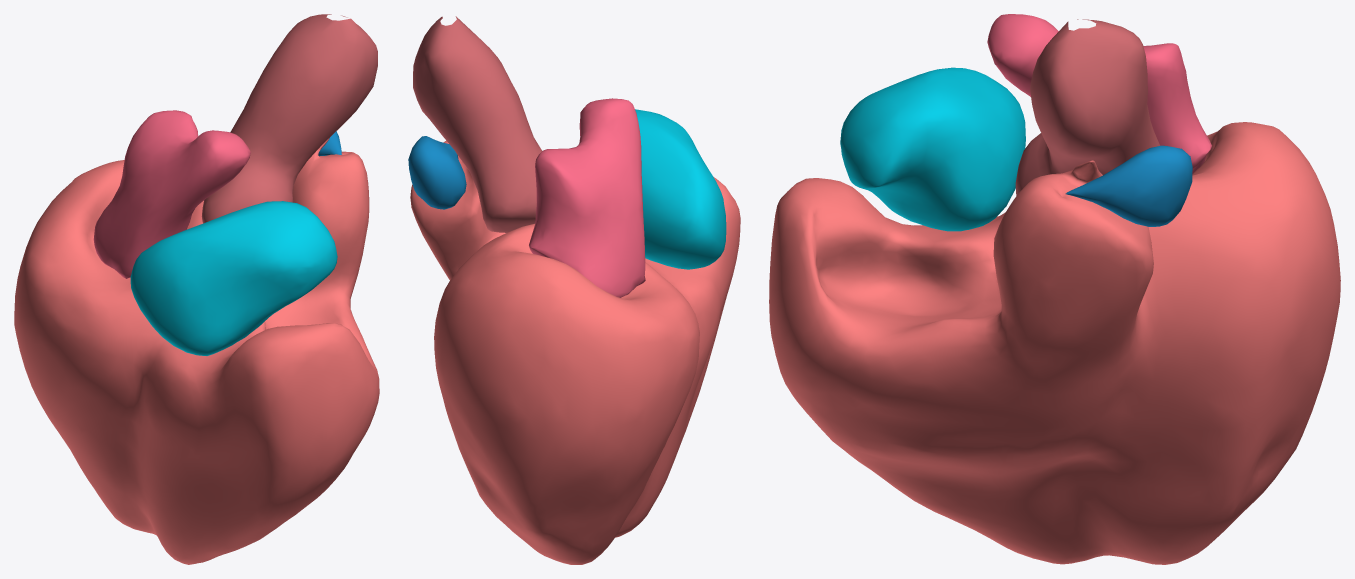
The model's file is frame_68.glb.
3 views of the same model, side by side, from view 1: azimuth 30°, elevation 25°; view 2: azimuth 150°, elevation 25°; view 3: azimuth 270°, elevation 25° (orthographic). The views are drawn at different scales.
Parts seen in each view (by area): view 1: Renderer Node; view 2: Renderer Node; view 3: Renderer Node.
Part boxes in pixels (x1=…): Renderer Node: x1=14, y1=14, x2=379, y2=564; Renderer Node: x1=408, y1=16, x2=740, y2=564; Renderer Node: x1=769, y1=14, x2=1340, y2=564.
Size of the model in its own units: 101 by 159 by 129.
